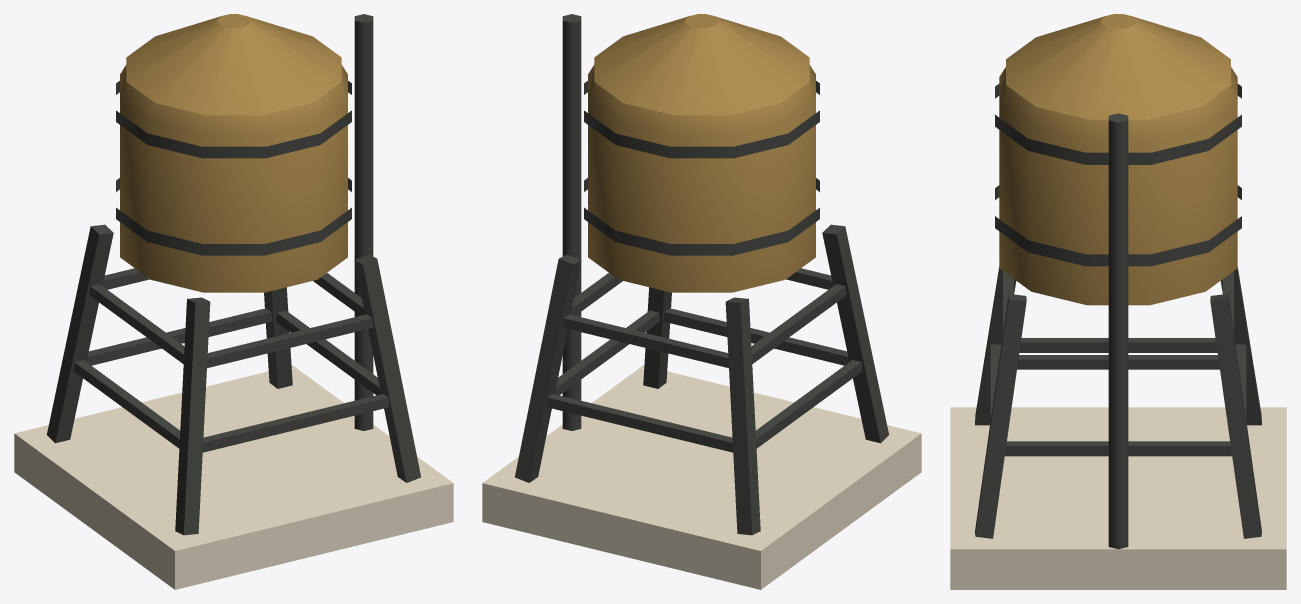
The model's file is water_tower.glb.
3 renders of one model, left to right at view 1: azimuth 30°, elevation 25°; view 2: azimuth 150°, elevation 25°; view 3: azimuth 270°, elevation 25°, orthographic. The views are drawn at different scales.
Parts seen in each view (by area): view 1: water_tower; view 2: water_tower; view 3: water_tower.
Part boxes in pixels (x1,y1,x2,y2): water_tower: (14,14,453,589); water_tower: (482,14,921,589); water_tower: (950,14,1286,589).
Bounding box in the file's own units: 1.5 × 2.45 × 1.5.
